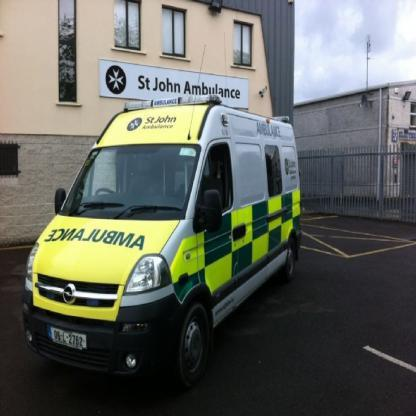Ambulance - v1 Ambulance last generate: (21, 96, 302, 370)
